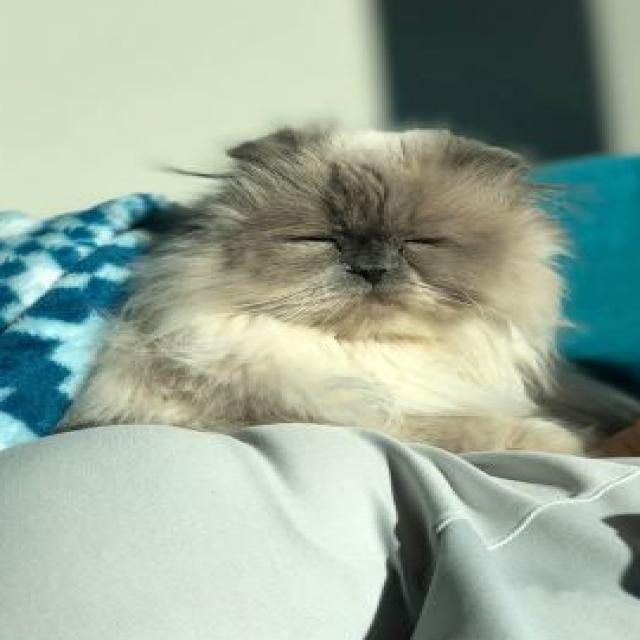Scottish Fold: (38, 122, 599, 466)
